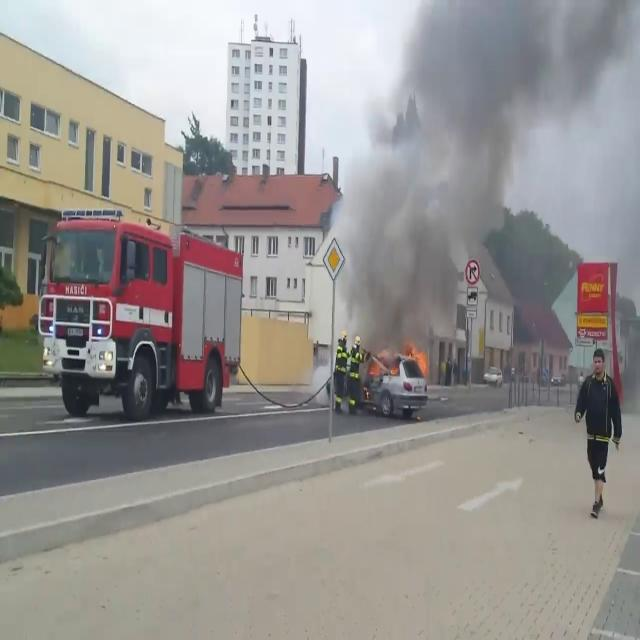Smoke: (326, 0, 552, 341)
